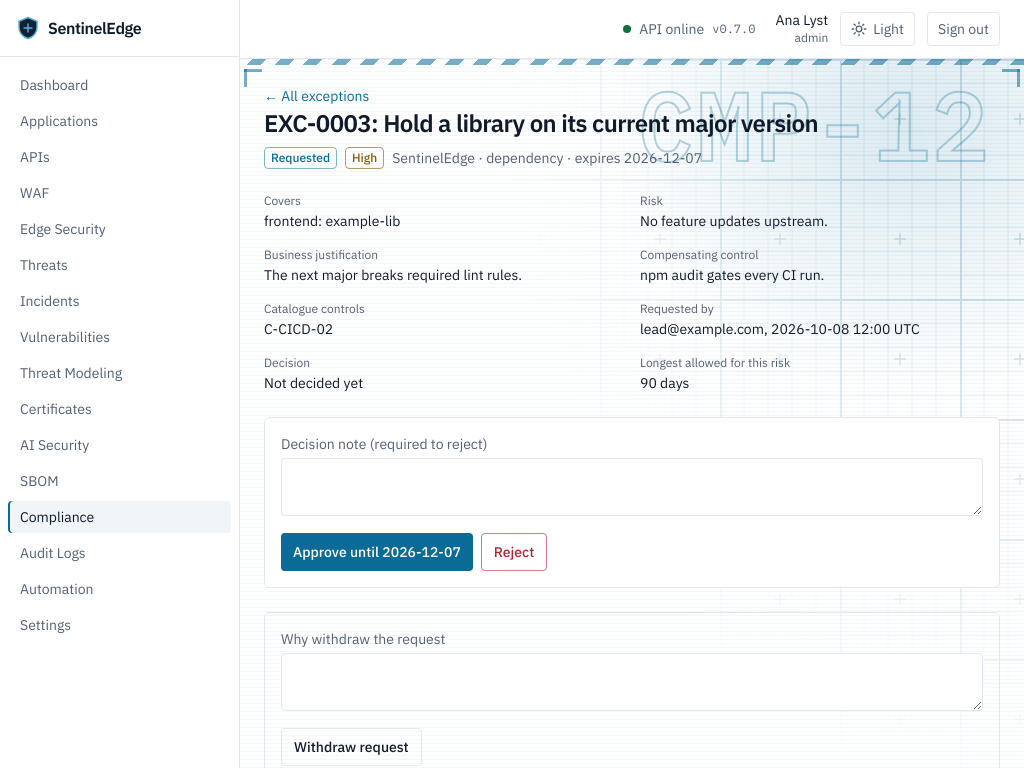
Scenario: Exception and change request decisions › sends another lead's approval with the version it read
The width and height of the screenshot is (1024, 768).
Click the button "Approve until 2026-12-07" at (377, 552), box [281,533,473,571]
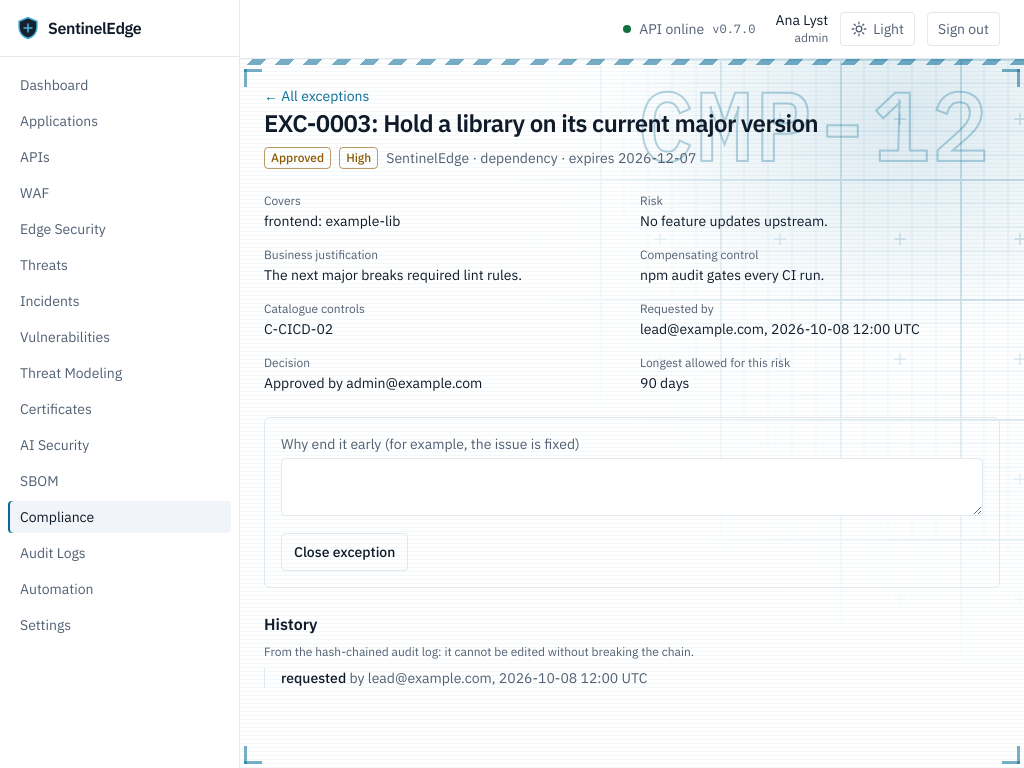
Now the text "Approved by admin@example.com" is shown, box [264,374,482,392]
